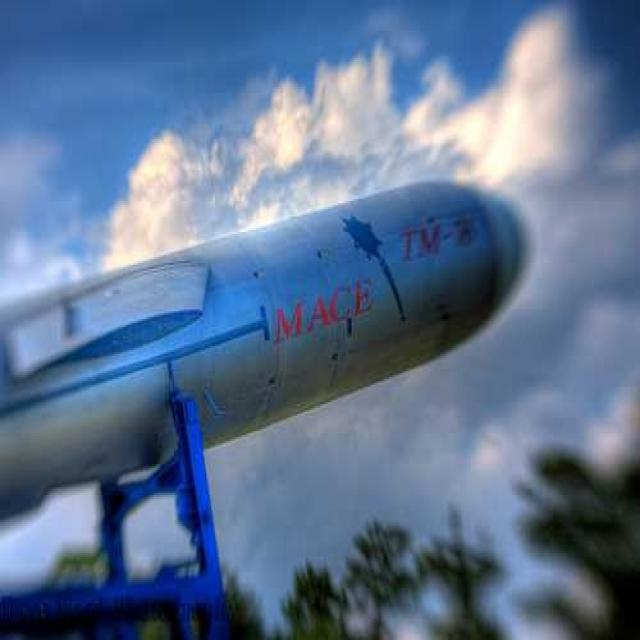missile: (0, 164, 536, 545)
